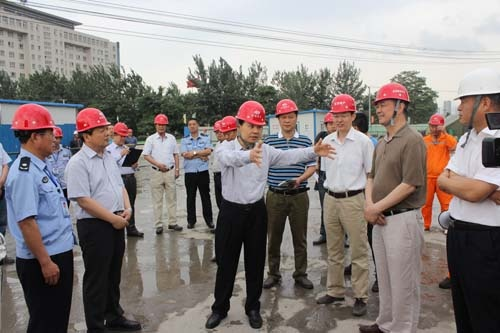none: (186, 117, 199, 135)
red: (9, 100, 55, 157), (373, 83, 410, 129), (74, 106, 110, 148), (236, 100, 268, 144), (331, 93, 357, 130), (275, 98, 299, 134), (220, 116, 238, 143), (428, 113, 447, 137), (112, 122, 128, 145), (323, 113, 337, 136), (153, 112, 167, 134), (212, 120, 223, 140), (52, 127, 62, 147)
white: (454, 68, 497, 127)
